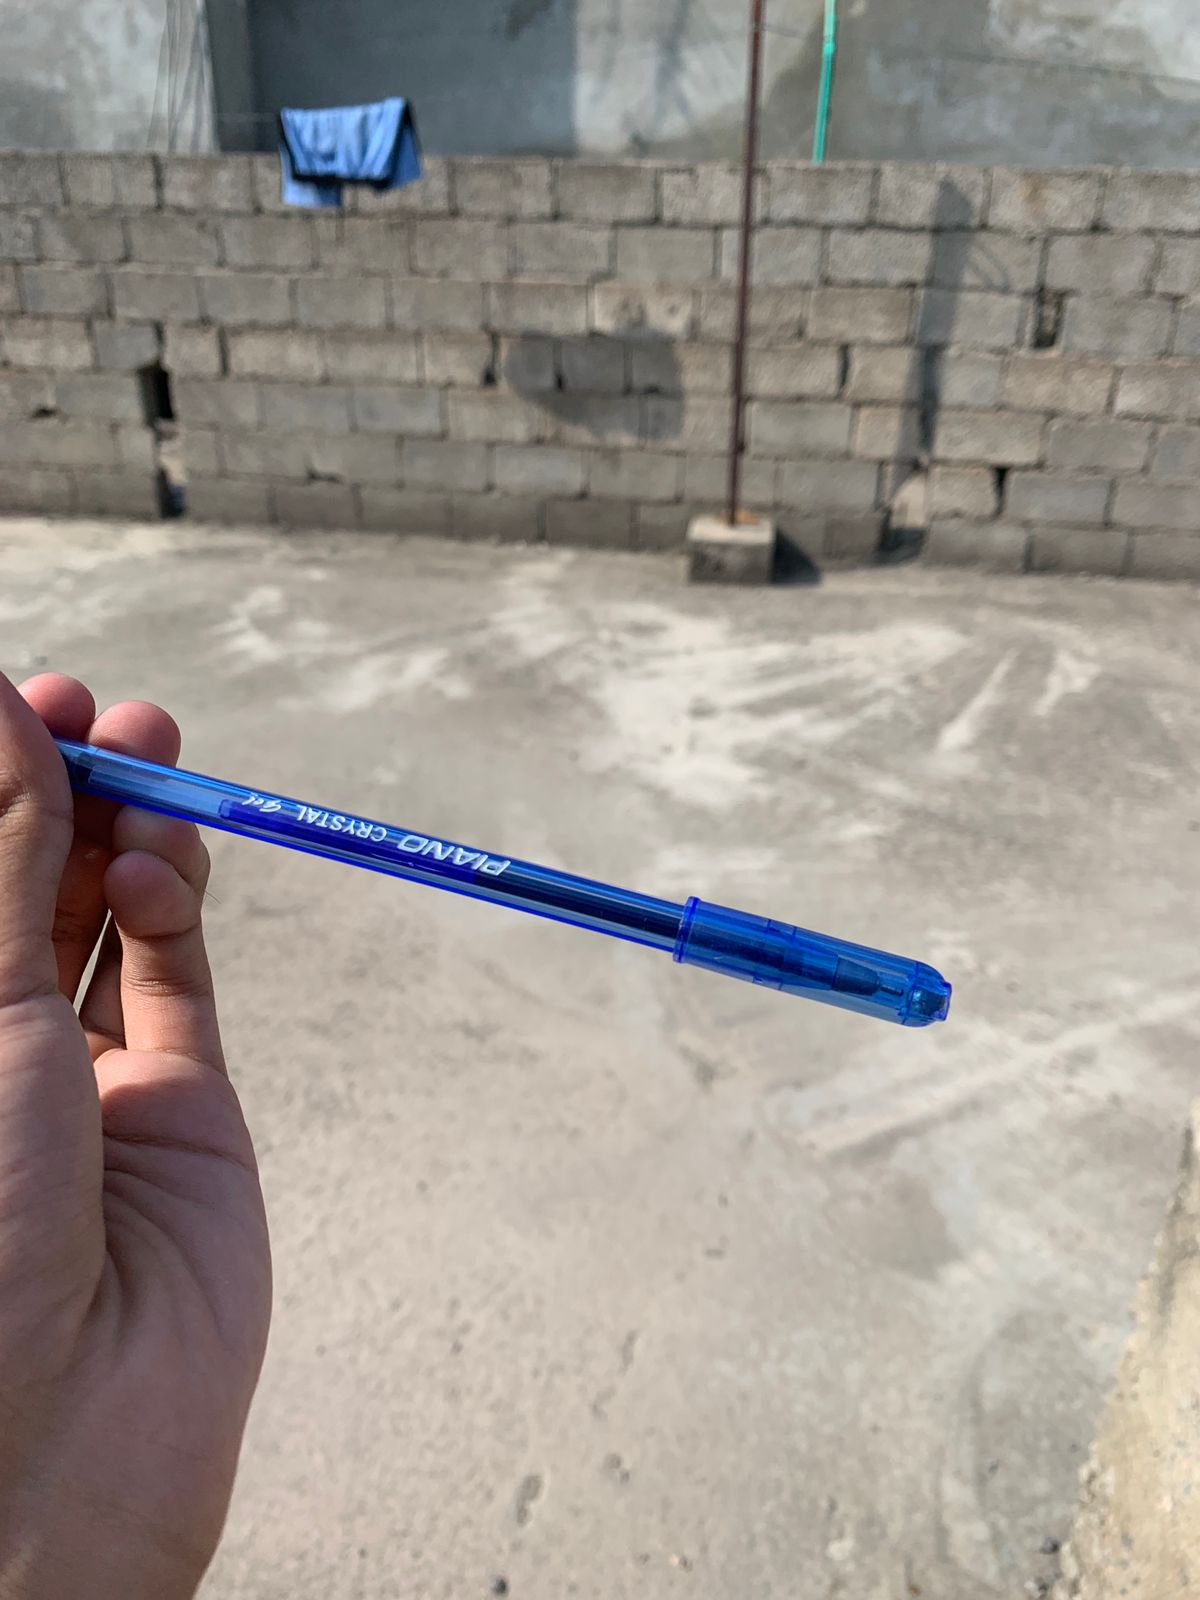pen: (16, 695, 1002, 1071)
